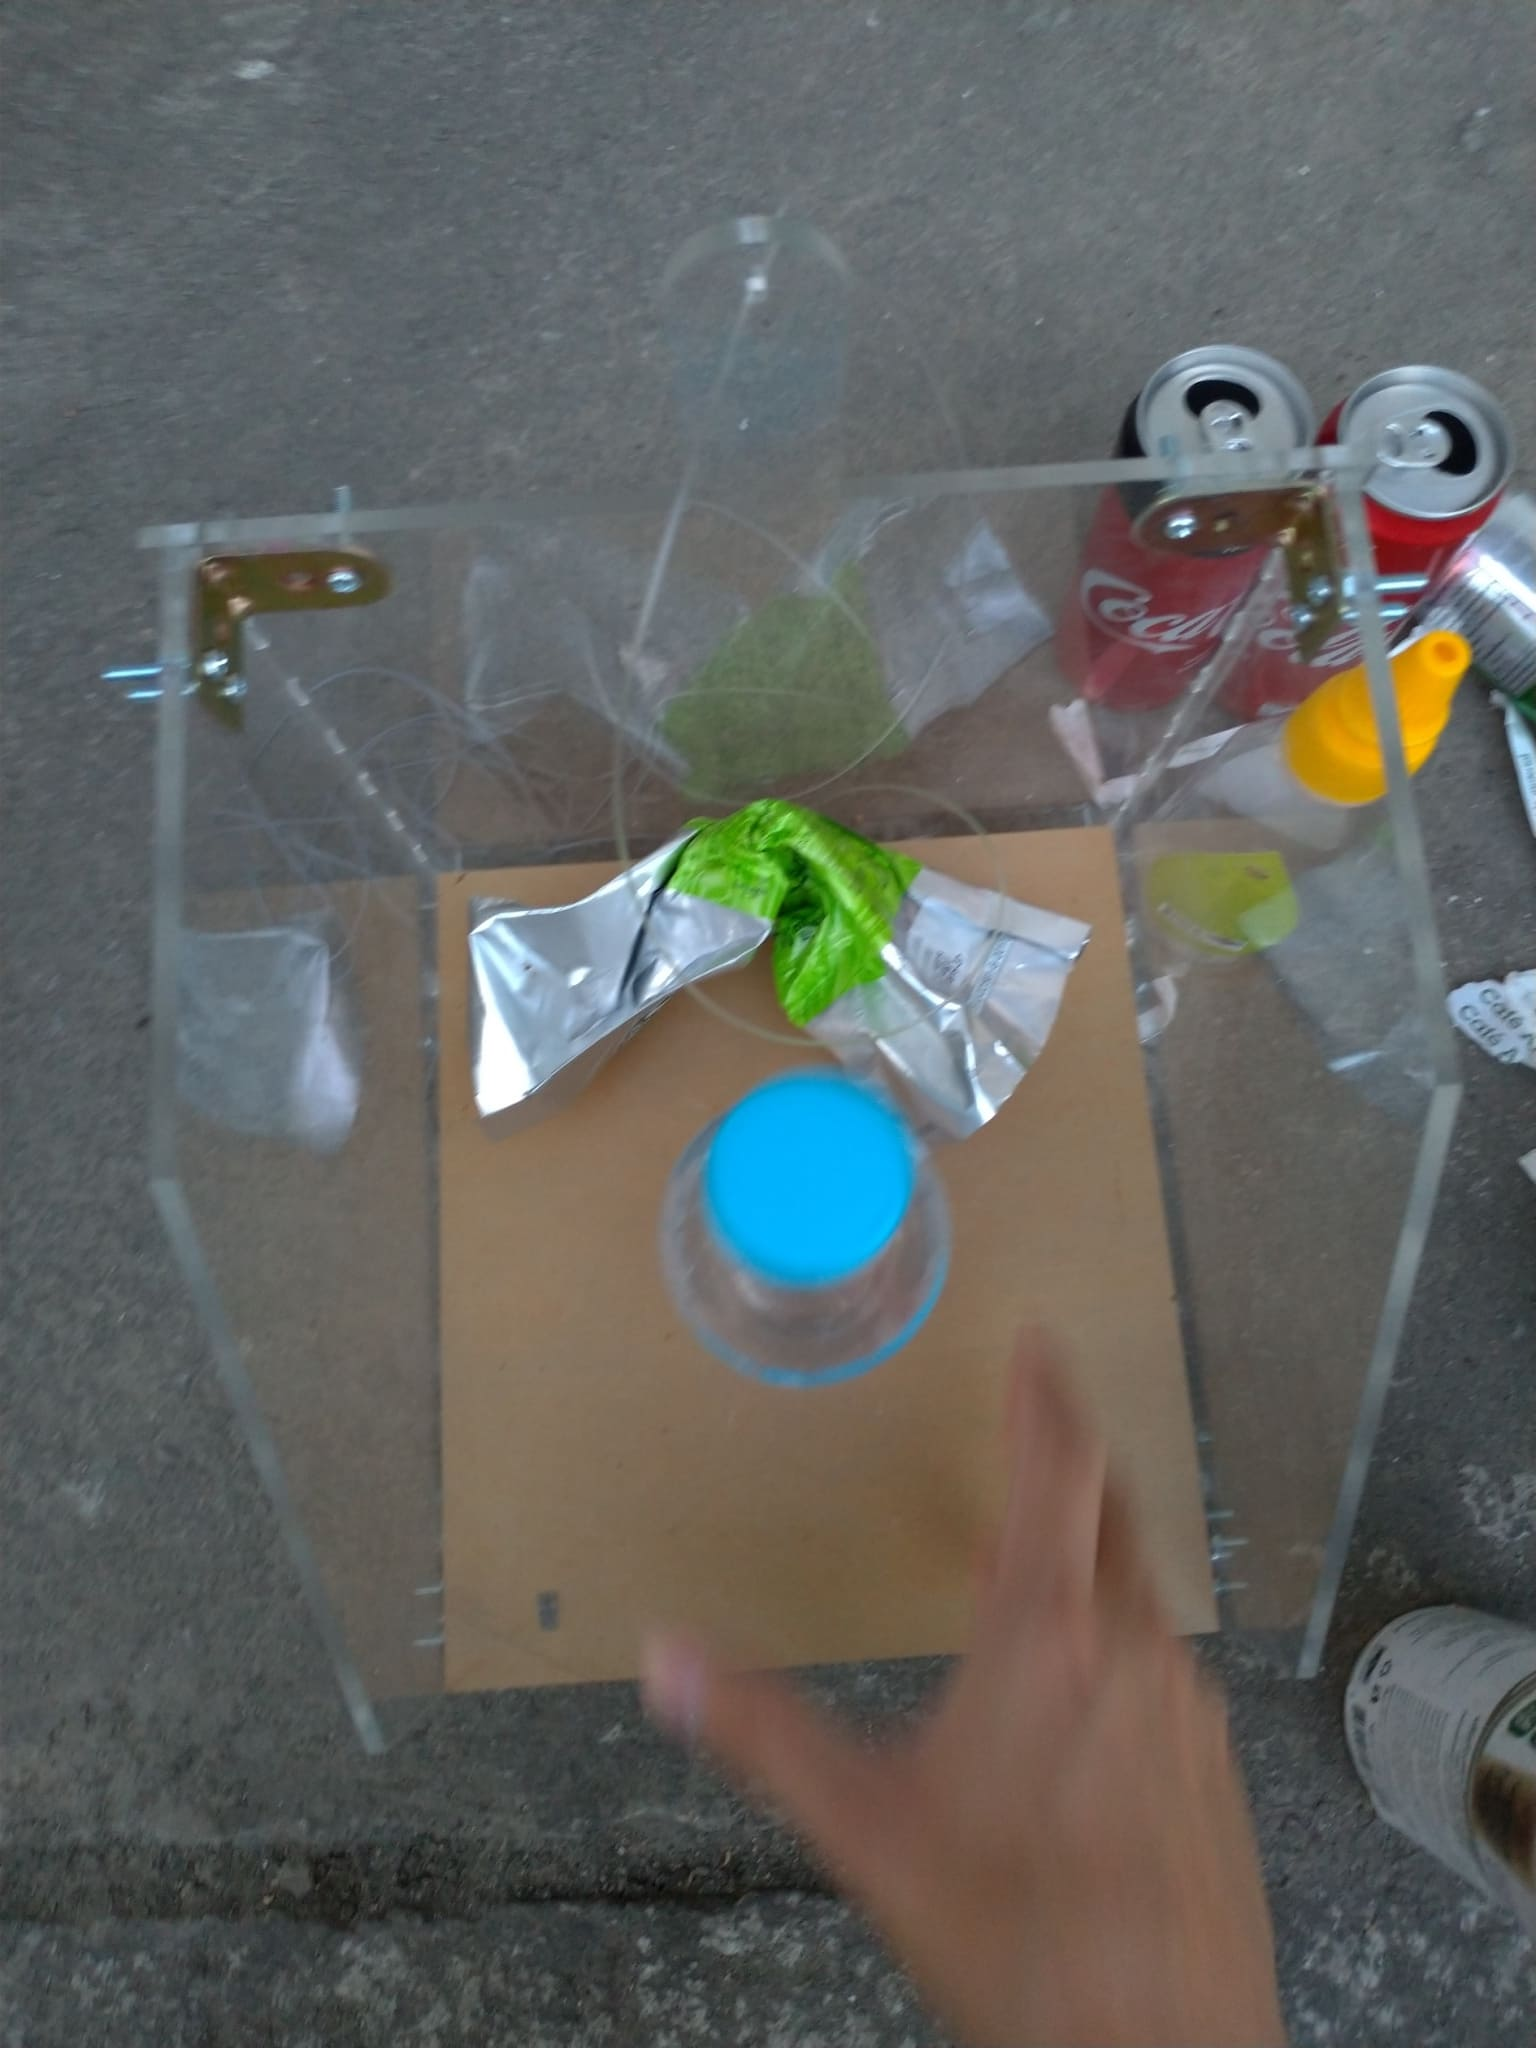AlCan: (1050, 348, 1312, 710), (1347, 1603, 1536, 1909), (1325, 364, 1499, 639)
Others: (466, 797, 1096, 1132)
PlasticBottle: (1128, 629, 1463, 1009), (657, 1074, 947, 1390)
